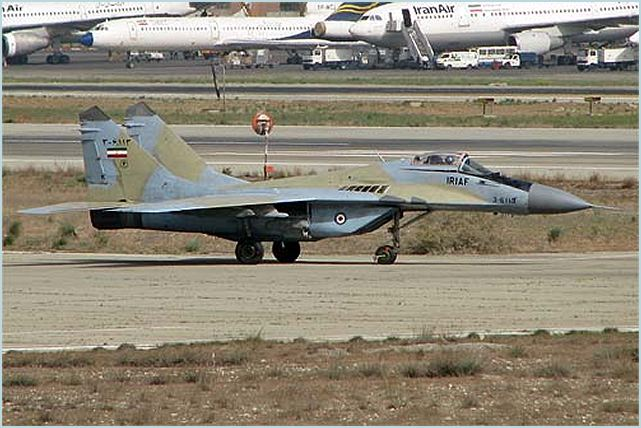Iran: (103, 146, 131, 158), (335, 211, 347, 224)
Mig-29: (49, 80, 612, 261)
